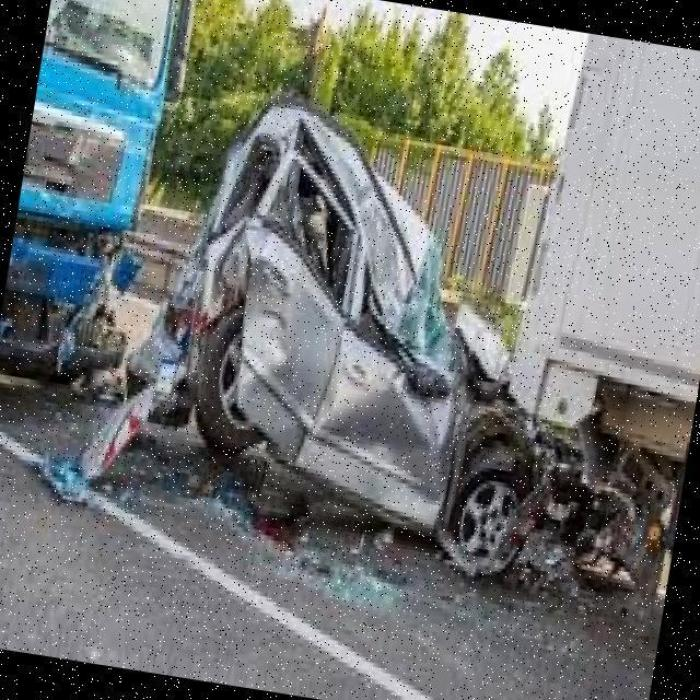Accident: (0, 93, 700, 631)
